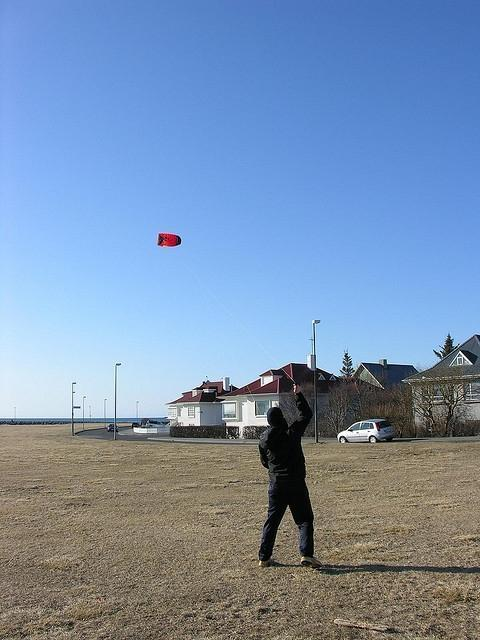car: (338, 419, 392, 443), (146, 420, 165, 428), (108, 423, 118, 432), (132, 422, 140, 429)
